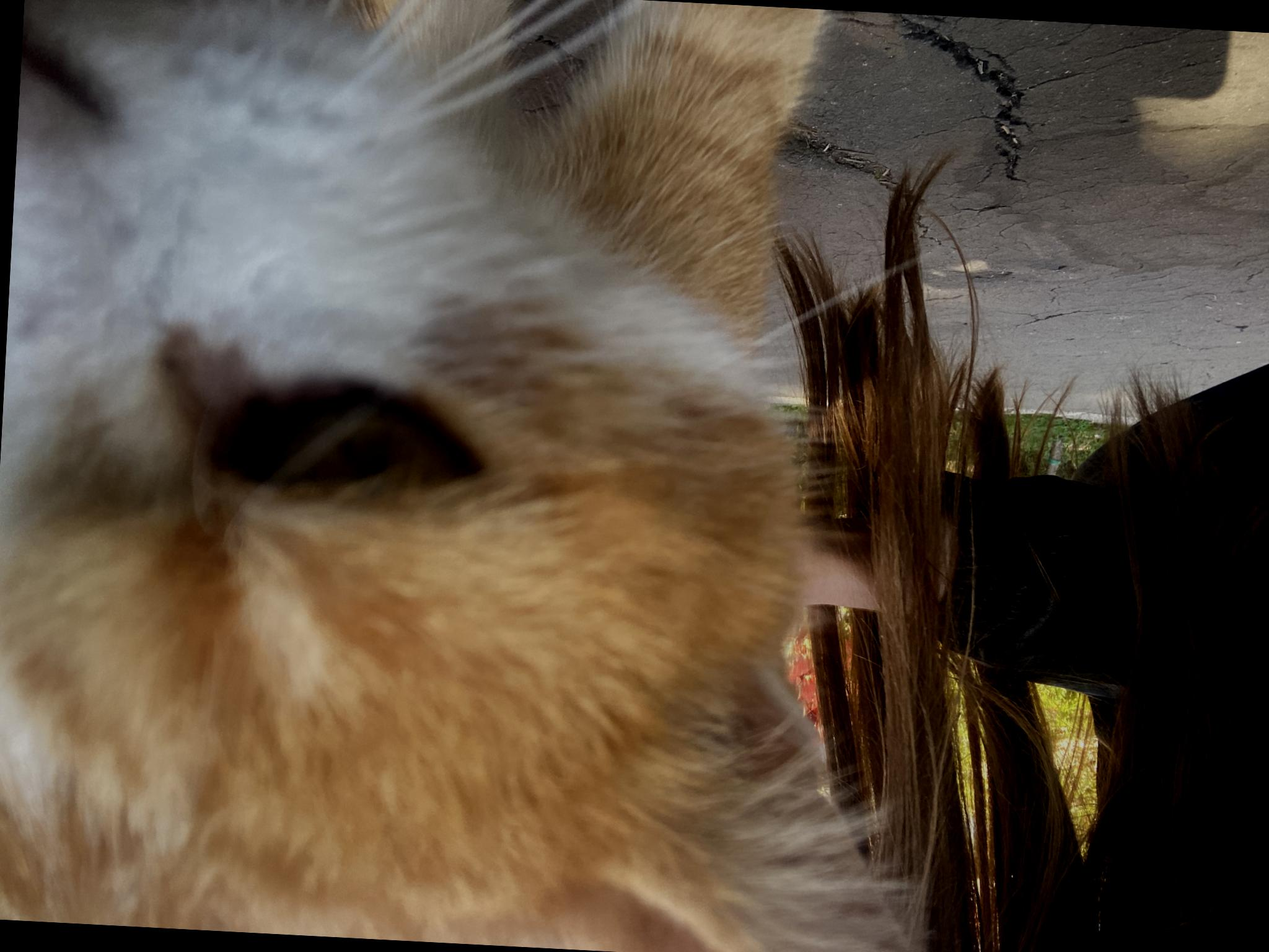macka: (0, 0, 977, 952)
